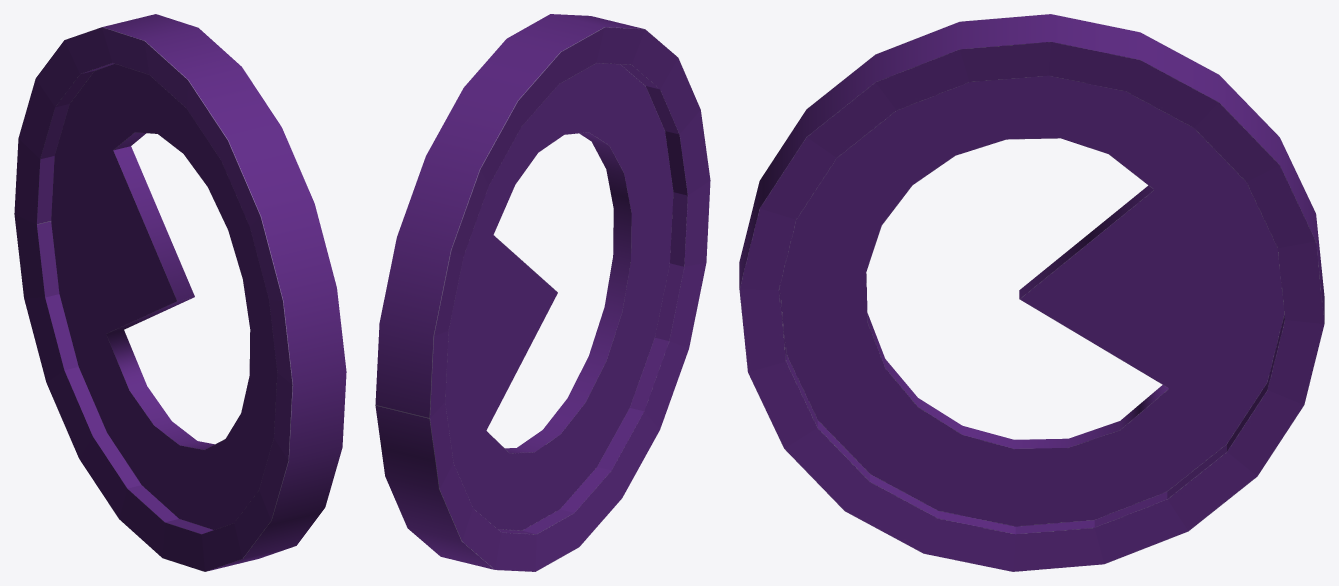
File: Power_Pacman.fbx
3 renders of one model, left to right at view 1: azimuth 30°, elevation 25°; view 2: azimuth 150°, elevation 25°; view 3: azimuth 270°, elevation 25°, orthographic. The views are drawn at different scales.
Parts seen in each view (by area): view 1: pCylinder5; view 2: pCylinder5; view 3: pCylinder5.
Part boxes in pixels (bbox=[...]): pCylinder5: bbox=[14, 14, 346, 571]; pCylinder5: bbox=[375, 14, 710, 571]; pCylinder5: bbox=[739, 14, 1324, 571].
Bounding box in the file's own units: 2.24 × 19.96 × 19.96.
1 material, 1 textured.
